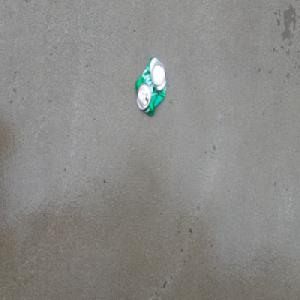SodaCan: (133, 54, 167, 118)
